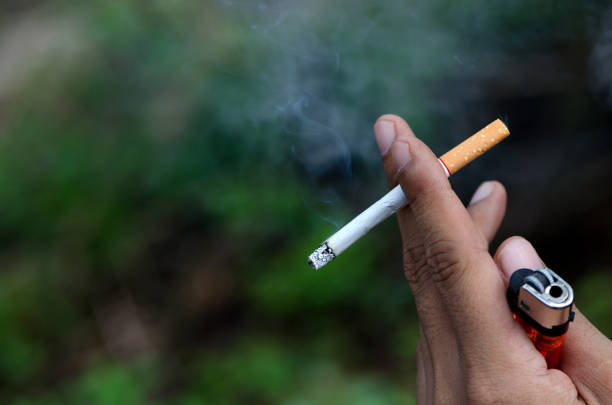cigarette: (303, 119, 511, 272)
